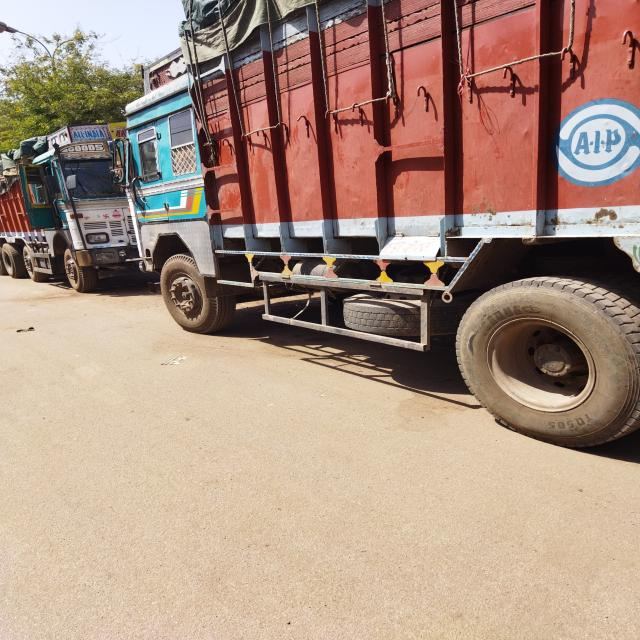Truck: (111, 1, 640, 460), (0, 114, 177, 299)
